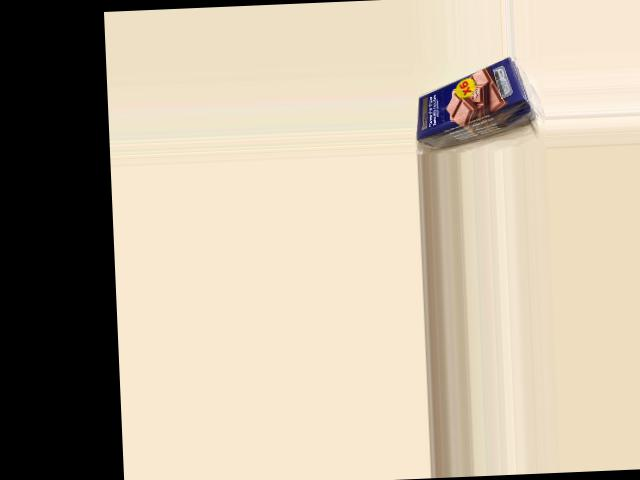chocolate: (413, 55, 528, 147)
